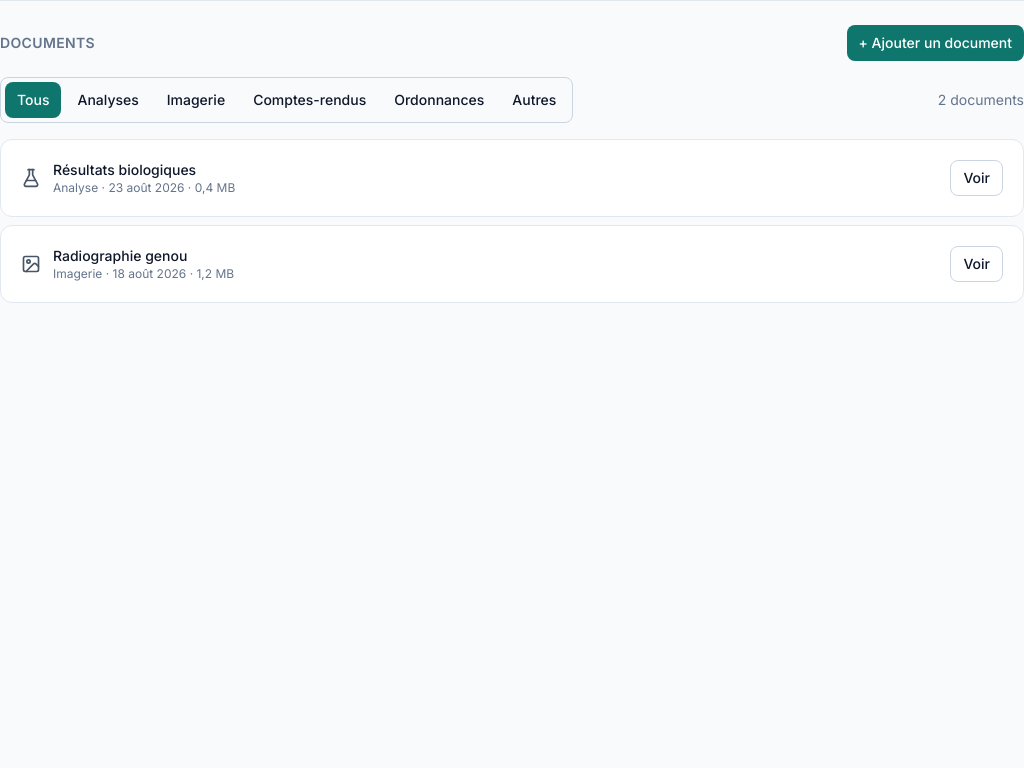
Test: DocumentsSection › opens the document detail drawer with full metadata (5)
Click the button "Voir" in the row of "1,2 MB" at (977, 264), box [950, 246, 1003, 282]
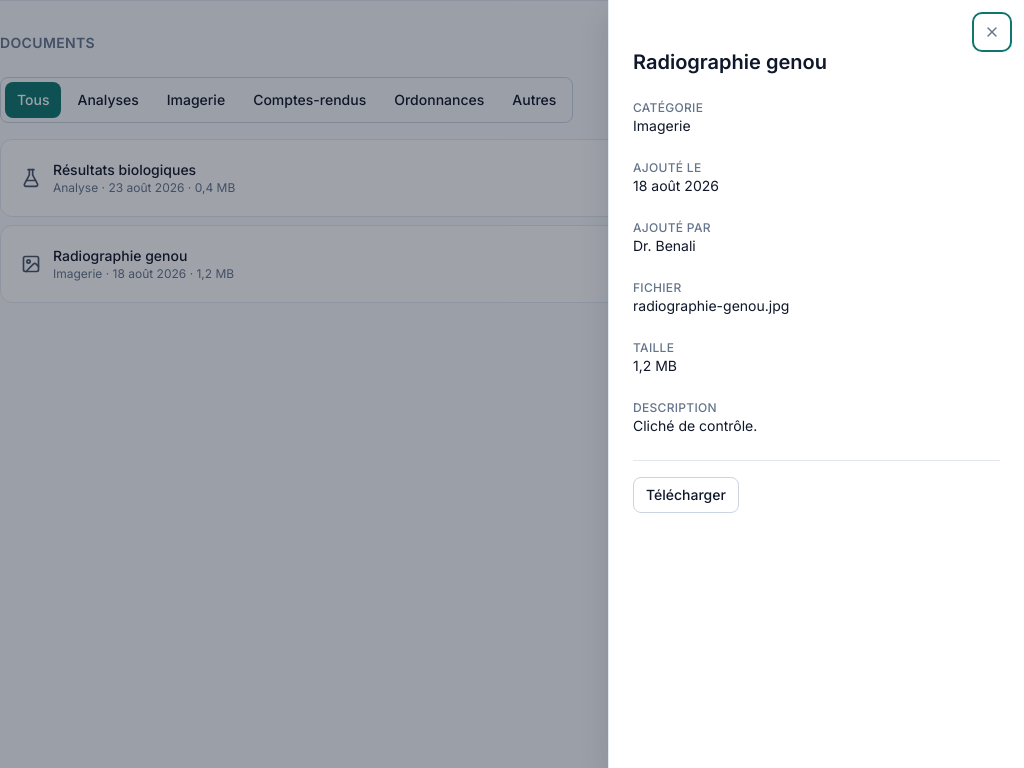
Check: the text "Catégorie" is shown, box [633, 100, 703, 115]
Check: the text "Imagerie" is shown, box [633, 117, 691, 134]
Check: the text "Ajouté le" is shown, box [633, 160, 702, 175]
